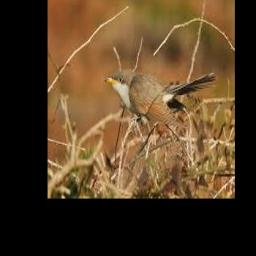Cuckoo: (103, 71, 215, 125)
